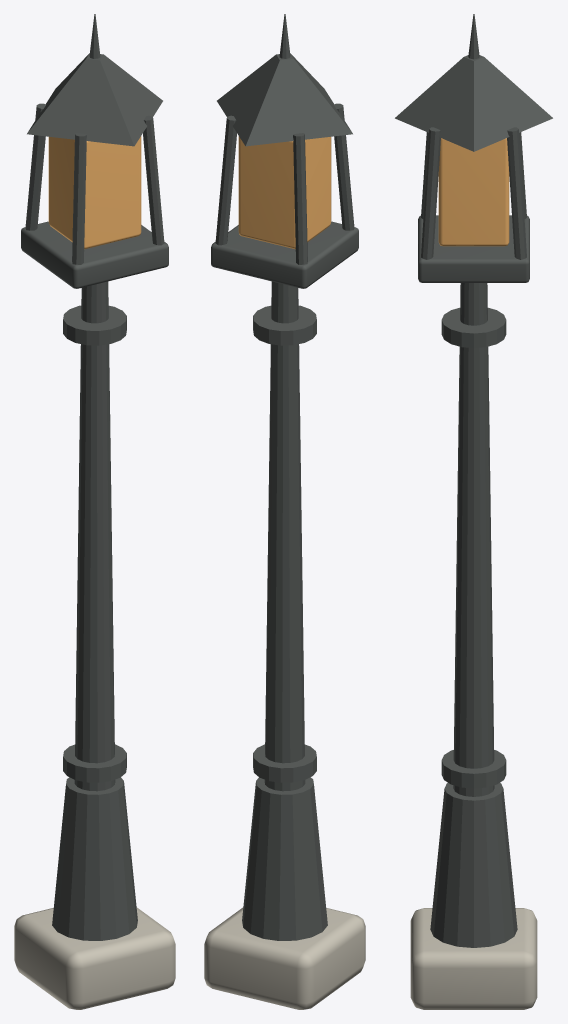
The model's file is Lamp.fbx.
3 renders of one model, left to right at view 1: azimuth 30°, elevation 25°; view 2: azimuth 150°, elevation 25°; view 3: azimuth 270°, elevation 25°, orthographic.
Visible parts, largest first — view 1: Lamp; view 2: Lamp; view 3: Lamp.
Boxes of the visible parts, <box> form: Lamp: <box>14,14,175,1009</box>; Lamp: <box>204,14,365,1009</box>; Lamp: <box>395,14,552,1009</box>.
Size of the model in its own units: 0.54 by 3.65 by 0.54.
